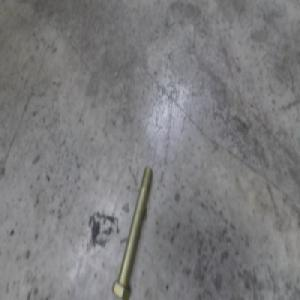Bolt: (119, 168, 153, 279)
